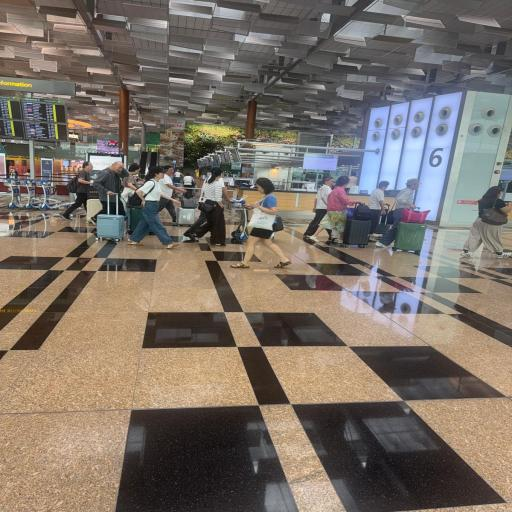person_left: (230, 177, 292, 269)
person_right: (126, 166, 180, 249), (182, 166, 234, 246), (460, 185, 512, 259), (302, 176, 336, 242), (61, 160, 95, 222), (120, 164, 146, 216)
person_with_luggage_right: (309, 176, 372, 248), (375, 178, 427, 255), (92, 160, 129, 240), (156, 164, 198, 226), (366, 180, 392, 244)
